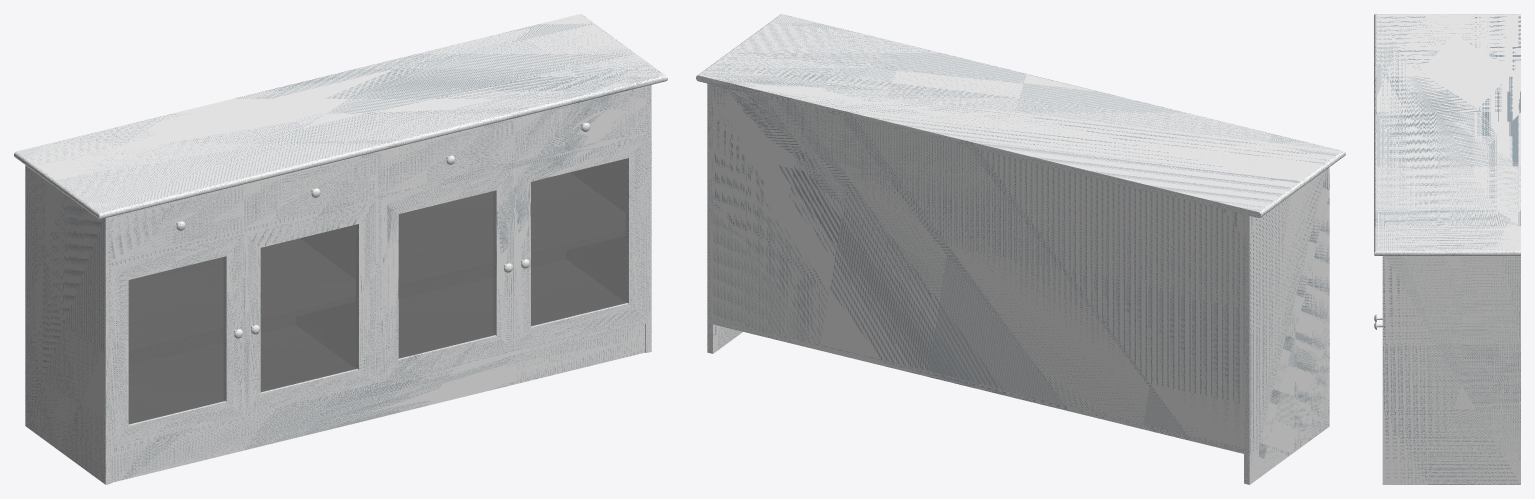
File: 我觉得是桌子.fbx
The picture shows the model from 3 angles, left to right: view 1: azimuth 30°, elevation 25°; view 2: azimuth 150°, elevation 25°; view 3: azimuth 270°, elevation 25°; orthographic projection. The views are drawn at different scales.
Parts seen in each view (by area): view 1: ID1230, ID2206, ID2705, ID454, ID680, ID292, ID782, _3DGeom_9, _3DGeom_22, _3DGeom_17, _3DGeom_11, ID186 (+13 smaller); view 2: _3DGeom_25, ID1230, ID2206, _3DGeom_1, _3DGeom_7, ID2238, ID52; view 3: ID1230, _3DGeom_26, ID1254, ID1806, ID1302, ID1734, ID1446, ID1494, ID1582, ID1654, ID1902.
Part boxes in pixels (x1,y1,x2,y2): ID1230: (17, 14, 662, 212); ID2206: (25, 165, 105, 484); ID2705: (111, 323, 645, 482); ID454: (260, 224, 357, 392); ID680: (398, 190, 495, 358); ID292: (128, 256, 225, 424); ID782: (531, 158, 627, 326); _3DGeom_9: (531, 159, 626, 324); _3DGeom_22: (129, 257, 223, 422); _3DGeom_17: (261, 225, 355, 390); _3DGeom_11: (399, 191, 493, 356); ID186: (381, 168, 513, 381); _3DGeom_25: (713, 85, 1243, 447); ID1230: (699, 14, 1340, 211); ID2206: (1249, 167, 1329, 484); _3DGeom_1: (696, 75, 1260, 217); _3DGeom_7: (713, 318, 1243, 453); ID2238: (1244, 214, 1249, 484); ID52: (707, 83, 712, 353); ID1230: (1377, 14, 1520, 250); _3DGeom_26: (1382, 256, 1520, 484); ID1254: (1374, 15, 1374, 253); ID1806: (1374, 14, 1374, 252); ID1302: (1374, 14, 1374, 251); ID1734: (1375, 14, 1375, 251); ID1446: (1375, 14, 1375, 250); ID1494: (1375, 14, 1375, 250); ID1582: (1376, 14, 1376, 250); ID1654: (1376, 14, 1376, 250); ID1902: (1376, 14, 1376, 250).
Size of the model in its own units: 79.58 by 37 by 20.69.
